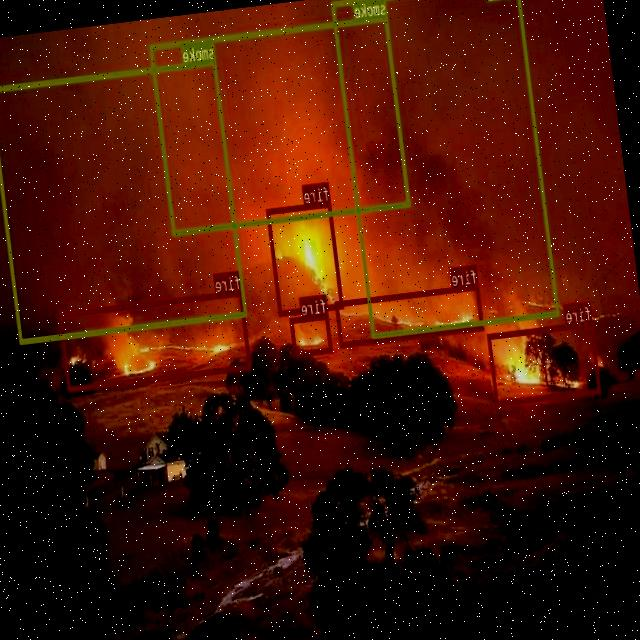fire: (58, 289, 252, 391), (488, 320, 602, 405), (335, 282, 484, 346), (266, 200, 344, 315), (290, 312, 332, 356)
smoke: (331, 0, 560, 337), (0, 58, 247, 342), (150, 14, 412, 234)
